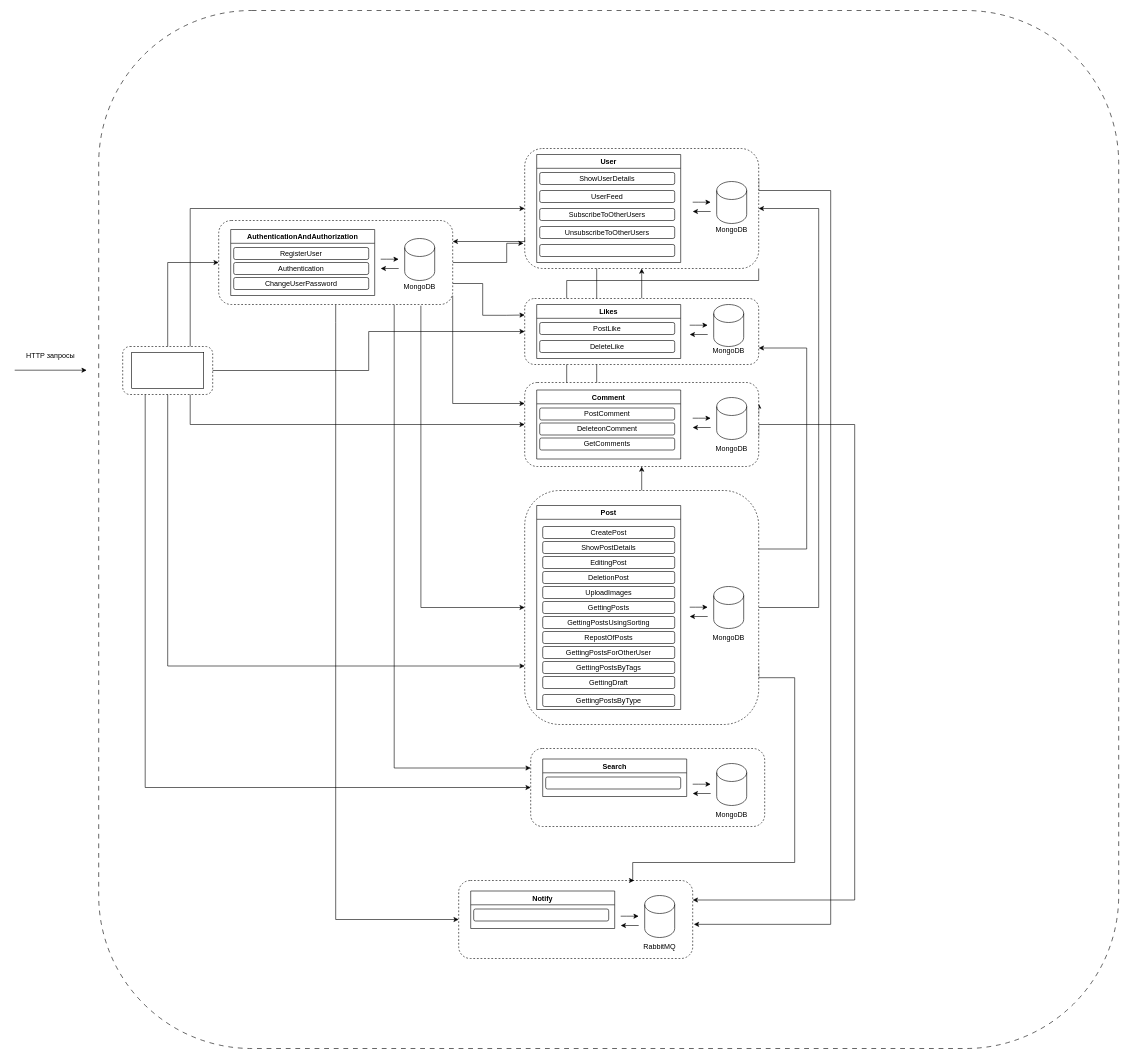
This 1129x1059 diagram has some shape labels left out. The centre of each missing label's shape, as x and y in pixels:
"API GATEWAY" goes at point 167,370.
"Email" goes at point 541,914.
"SearchPostByTitle" goes at point 613,782.
"UploadAvatar" goes at point 607,250.
